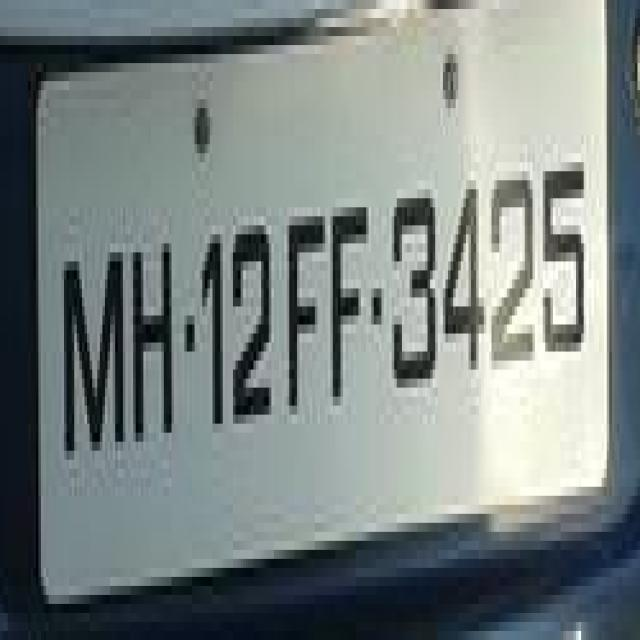license_plate: (25, 0, 638, 586)
